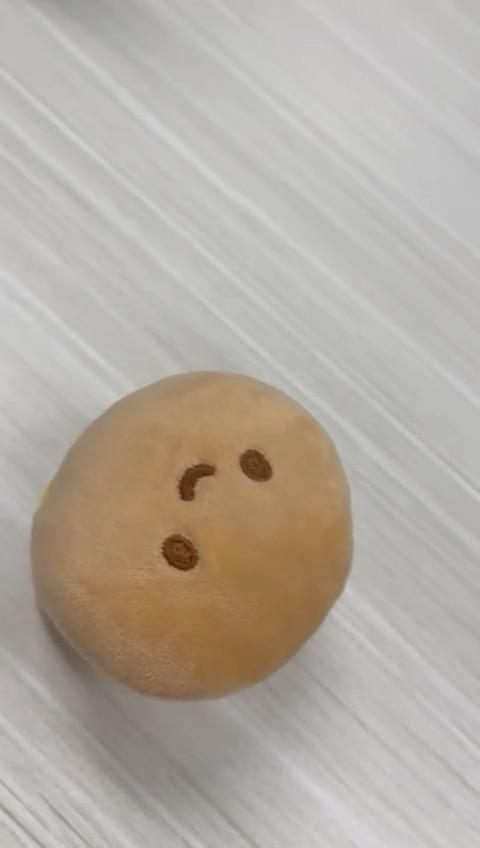hamburger: (33, 371, 356, 701)
